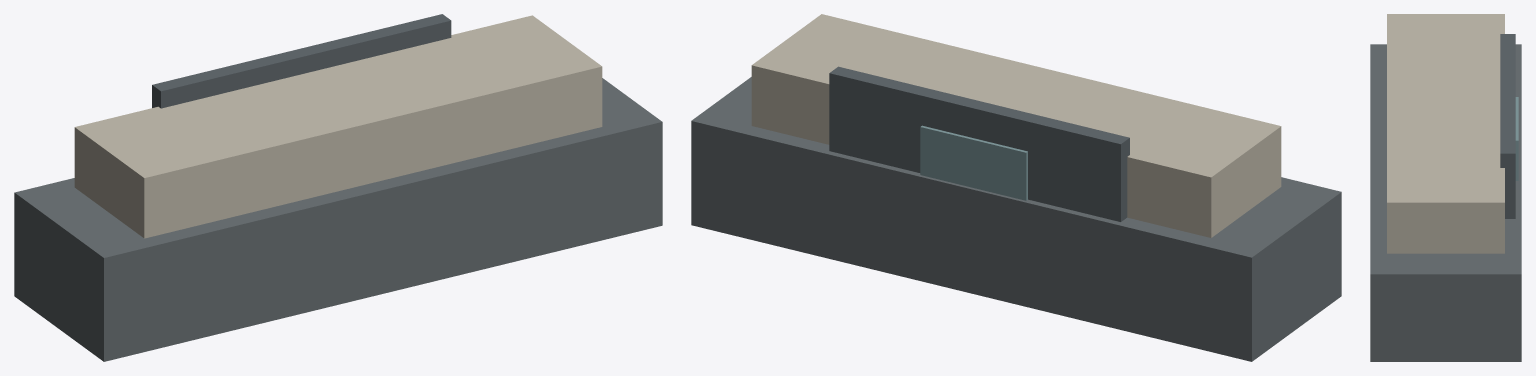
Rendered from iz3_prison_bench_01.glb.
The picture shows the model from 3 angles, left to right: view 1: azimuth 30°, elevation 25°; view 2: azimuth 150°, elevation 25°; view 3: azimuth 270°, elevation 25°; orthographic projection. The views are drawn at different scales.
Parts seen in each view (by area): view 1: base, cabinet, panel; view 2: base, cabinet, panel, display; view 3: cabinet, base, panel, display.
Boxes of the visible parts, x1,y1,x2,y2 form: base: (14, 78, 662, 361); cabinet: (74, 15, 602, 238); panel: (152, 14, 451, 108); base: (691, 77, 1341, 361); cabinet: (751, 14, 1281, 237); panel: (829, 66, 1129, 221); display: (920, 125, 1027, 200); cabinet: (1387, 14, 1504, 253); base: (1370, 44, 1521, 361); panel: (1500, 34, 1515, 218); display: (1515, 97, 1518, 180).
Size of the model in its own units: 1.8 by 0.559 by 0.5.
